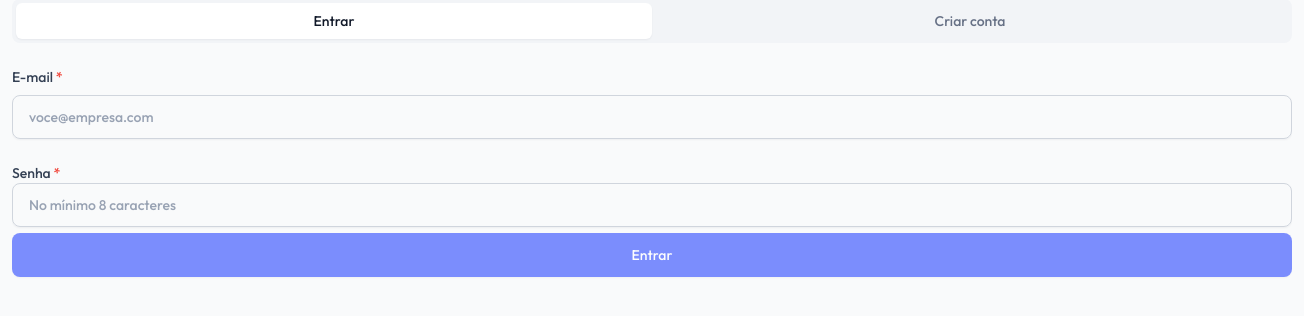
Test: LoginForm › mostra erro apenas quando o próprio campo perde foco
Expected: the text "Informe seu e-mail." is not shown
Click the field labelled "E-mail *": (652, 117) x1=12 y1=95 x2=1292 y2=139
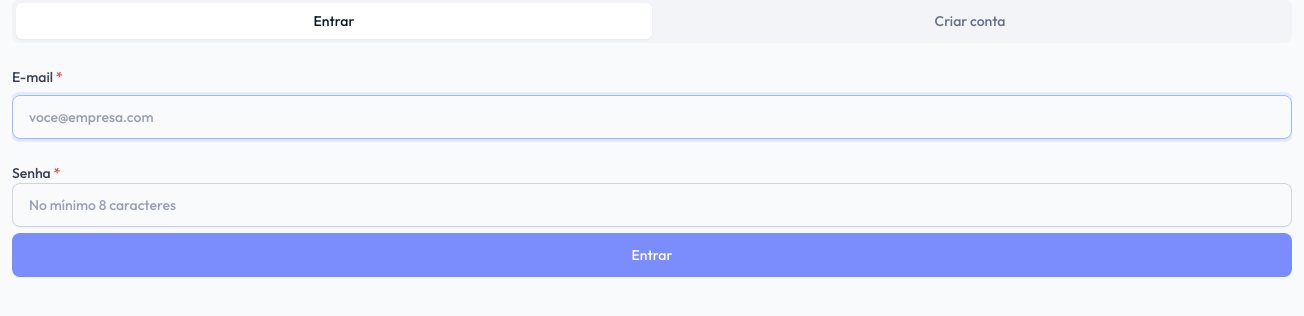
Press Tab
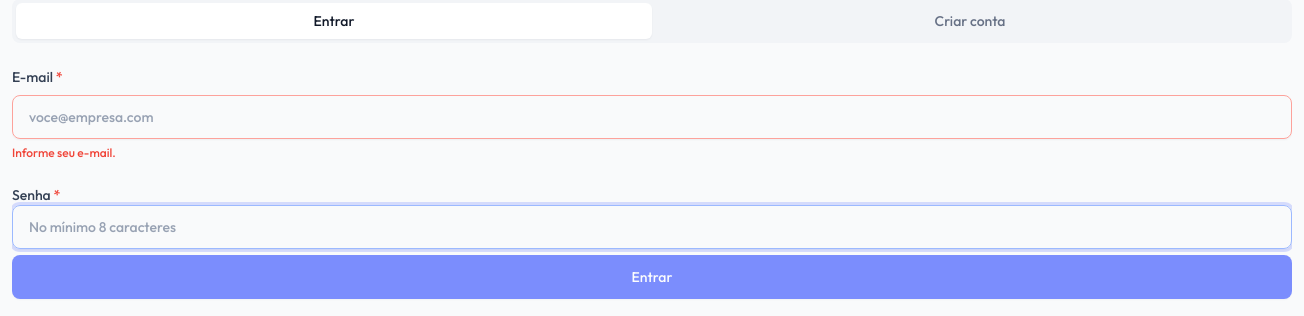
Now the text "Informe seu e-mail." is shown, box x1=12 y1=145 x2=116 y2=160
